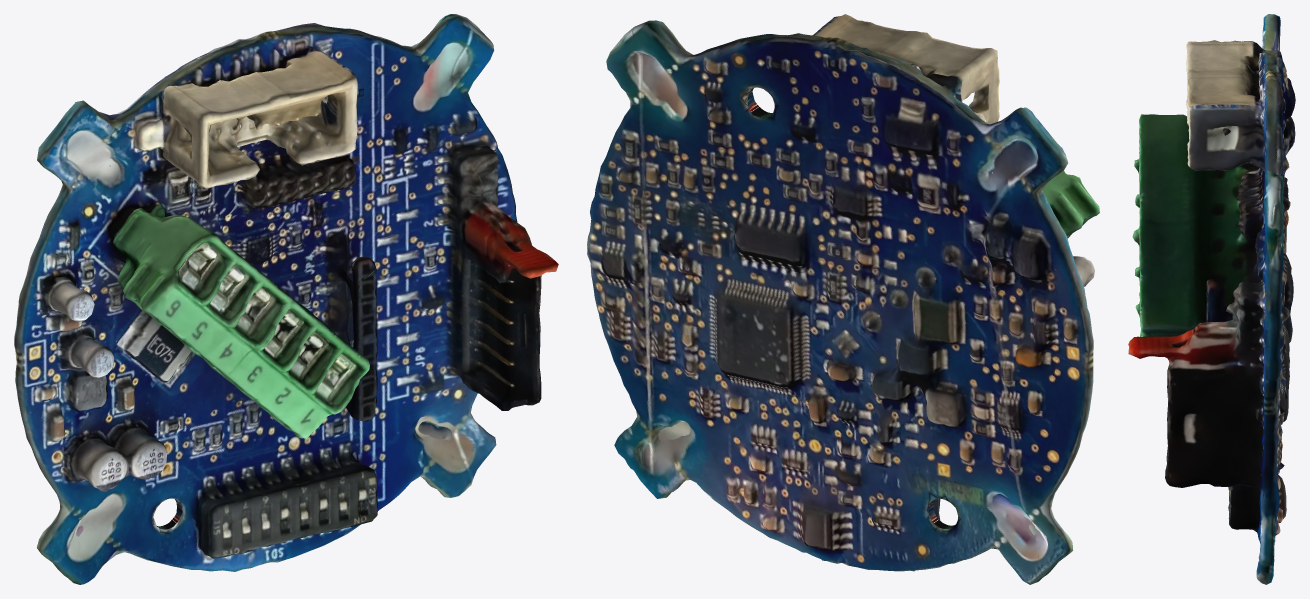
Rendered from chip.glb.
The picture shows the model from 3 angles, left to right: view 1: azimuth 30°, elevation 25°; view 2: azimuth 150°, elevation 25°; view 3: azimuth 270°, elevation 25°; orthographic projection. The views are drawn at different scales.
Parts seen in each view (by area): view 1: Valvola Sensitron.009; view 2: Valvola Sensitron.009; view 3: Valvola Sensitron.009.
Part boxes in pixels (box(x1,y1,x2,y2)): Valvola Sensitron.009: box(14, 14, 558, 584); Valvola Sensitron.009: box(587, 14, 1099, 584); Valvola Sensitron.009: box(1128, 14, 1295, 584).
Bounding box in the file's own units: 1.3 × 1.3 × 0.4337.
Materials: 1 (1 with a texture image).
